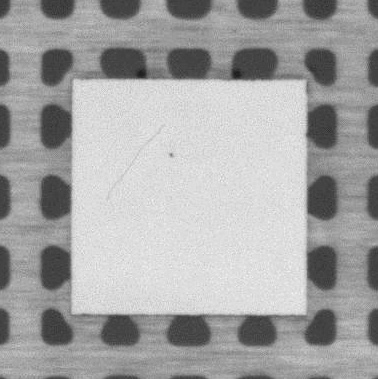DIE_CRACK: (105, 120, 167, 199)
